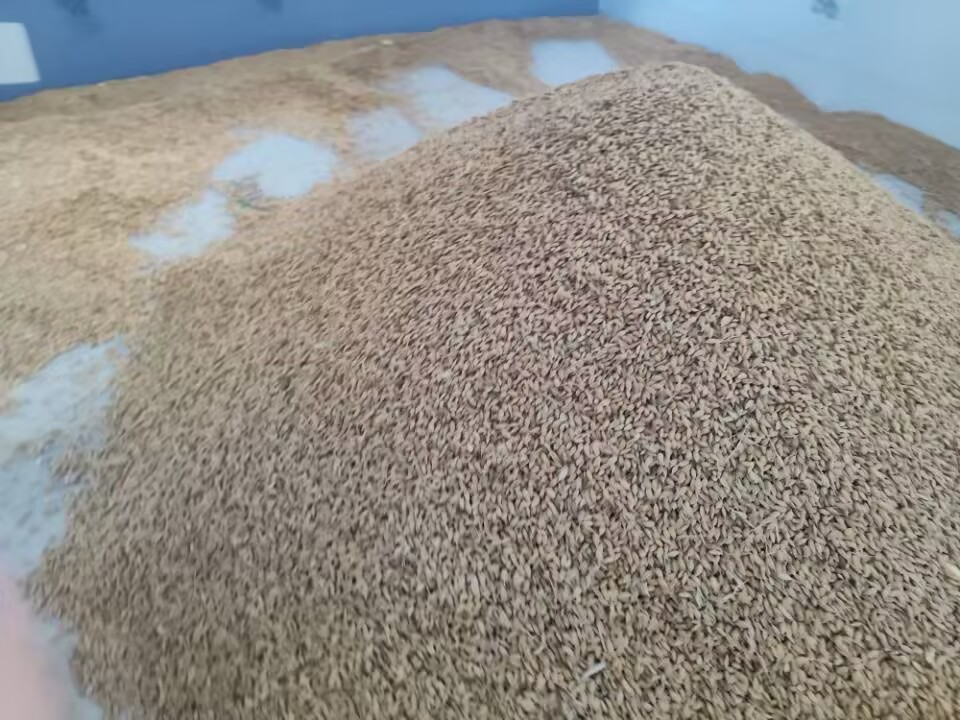Grain: (306, 39, 957, 647)
